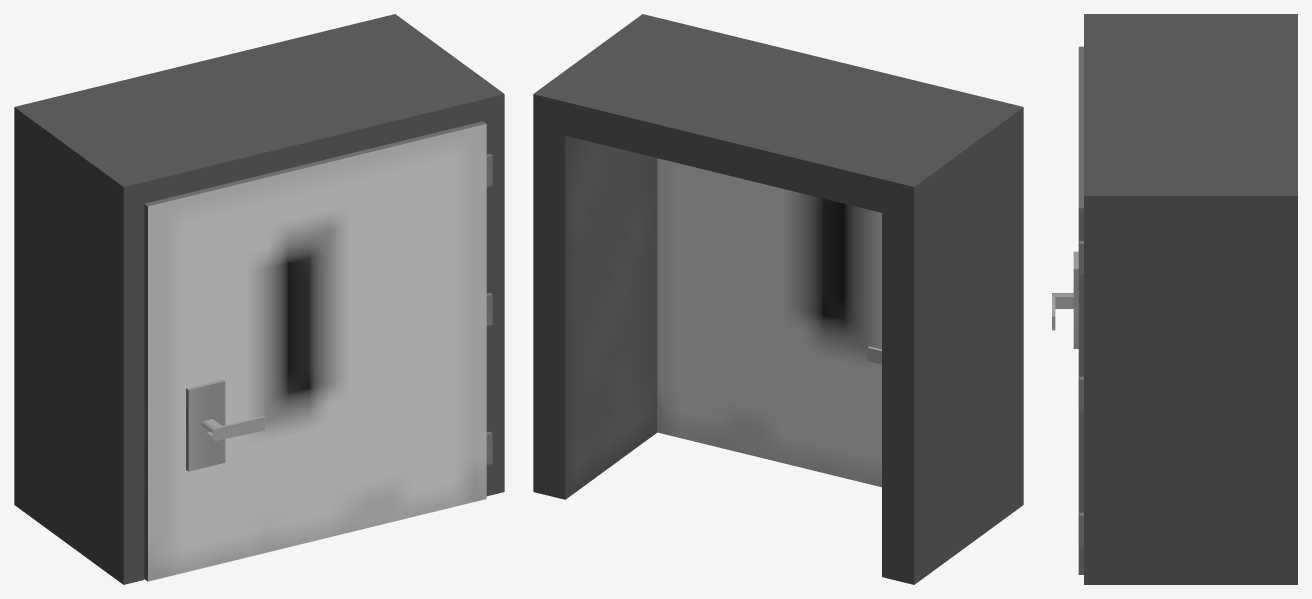
Rendered from Dooor.fbx.
3 renders of one model, left to right at view 1: azimuth 30°, elevation 25°; view 2: azimuth 150°, elevation 25°; view 3: azimuth 270°, elevation 25°, orthographic. The views are drawn at different scales.
Parts seen in each view (by area): view 1: Door, DoorFrame, Handle; view 2: DoorFrame, Door; view 3: DoorFrame, Door, Handle.
Part boxes in pixels (x1,y1,x2,y2): Door: (144, 121, 486, 581); DoorFrame: (14, 14, 504, 584); Handle: (201, 415, 265, 441); DoorFrame: (533, 14, 1023, 584); Door: (657, 158, 881, 487); DoorFrame: (1079, 14, 1297, 584); Door: (1073, 46, 1083, 574); Handle: (1052, 293, 1073, 330).
Bounding box in the file's own units: 2.01 × 2.01 × 1.15.
